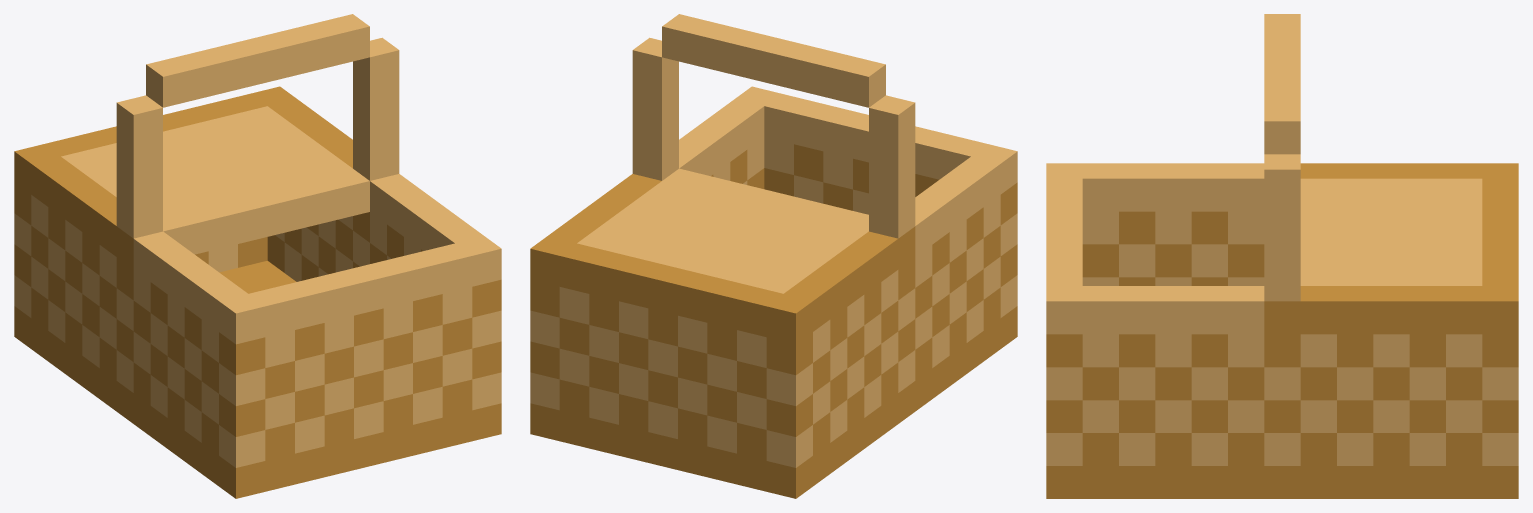
File: basket.obj
3 views of the same model, side by side, from view 1: azimuth 30°, elevation 25°; view 2: azimuth 150°, elevation 25°; view 3: azimuth 270°, elevation 25° (orthographic). The views are drawn at different scales.
Size of the model in its own units: 0.9 by 1.1 by 1.3.
